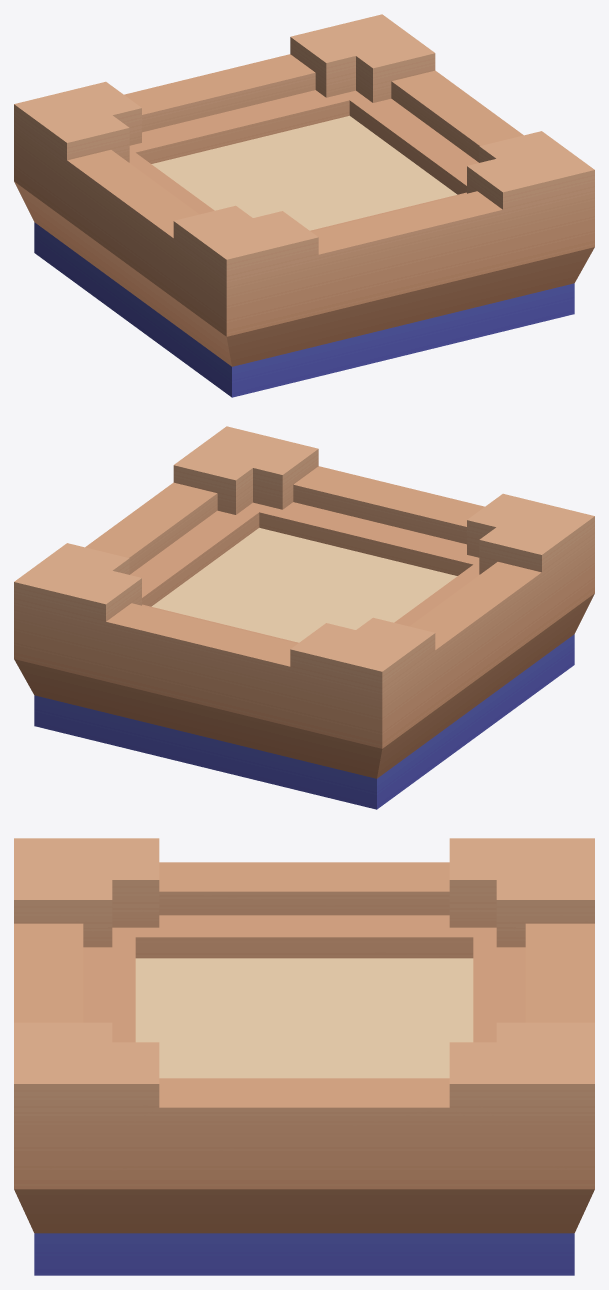
File: tower-square-top-color.glb
The picture shows the model from 3 angles, top to bottom: view 1: azimuth 30°, elevation 25°; view 2: azimuth 150°, elevation 25°; view 3: azimuth 270°, elevation 25°; orthographic projection. The views are drawn at different scales.
Parts seen in each view (by area): view 1: tower-square-top-color; view 2: tower-square-top-color; view 3: tower-square-top-color.
Boxes of the visible parts, x1=… form: tower-square-top-color: x1=14, y1=14, x2=594, y2=397; tower-square-top-color: x1=14, y1=426, x2=594, y2=809; tower-square-top-color: x1=14, y1=838, x2=594, y2=1275.
Size of the model in its own units: 1 by 0.38 by 1.
1 material, 1 textured.
